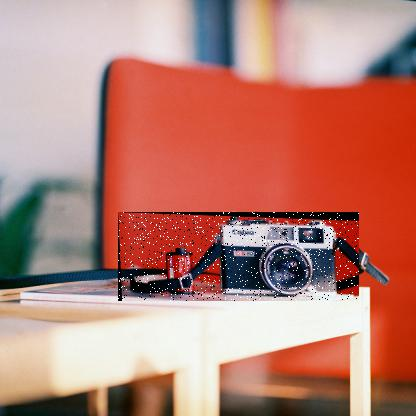Camera: (119, 213, 361, 303)
